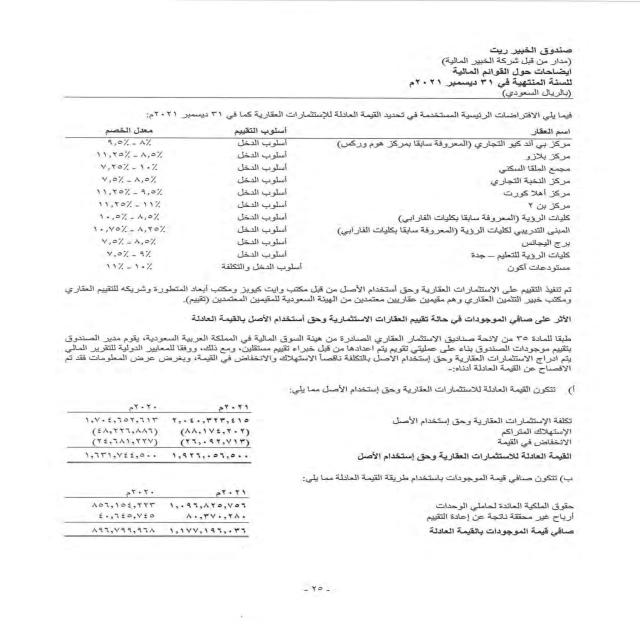notes: (440, 67, 580, 76)
table: (47, 123, 585, 278), (37, 396, 261, 474), (38, 480, 260, 550)
